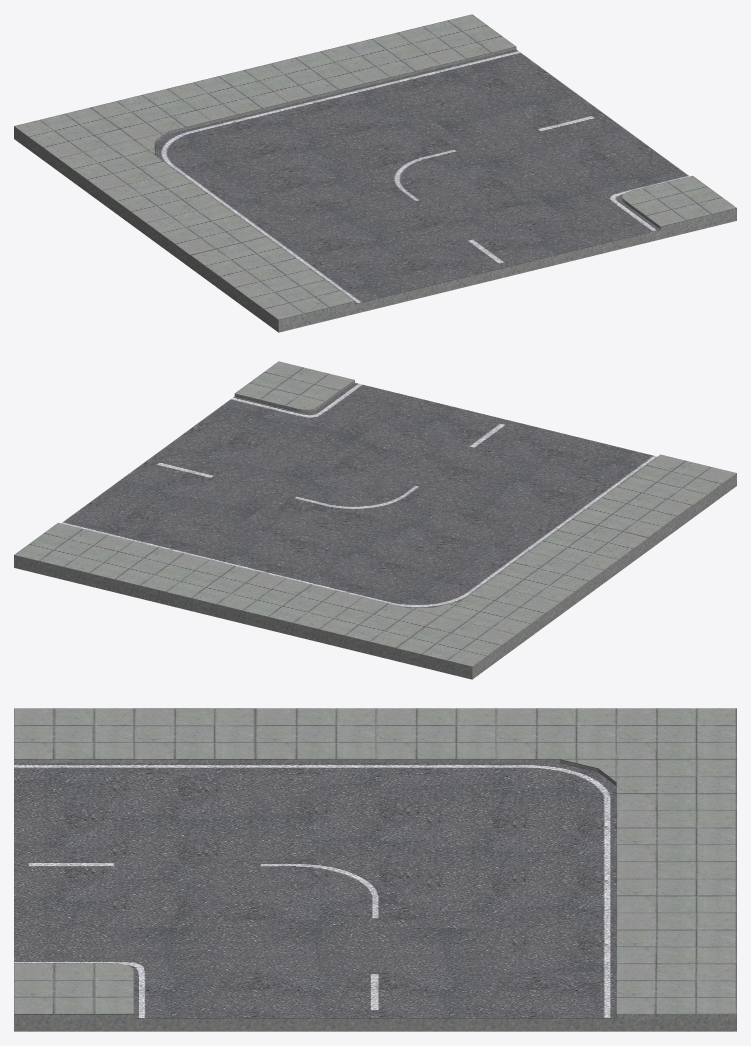
File: route_virage.fbx
3 views of the same model, one above another, from view 1: azimuth 30°, elevation 25°; view 2: azimuth 150°, elevation 25°; view 3: azimuth 270°, elevation 25° (orthographic). The views are drawn at different scales.
Parts seen in each view (by area): view 1: Plane; view 2: Plane; view 3: Plane.
Part boxes in pixels (x1,y1,x2,y2): Plane: [14, 14, 736, 332]; Plane: [14, 361, 736, 679]; Plane: [14, 708, 736, 1031].
Bounding box in the file's own units: 1200 × 32.09 × 1200.
